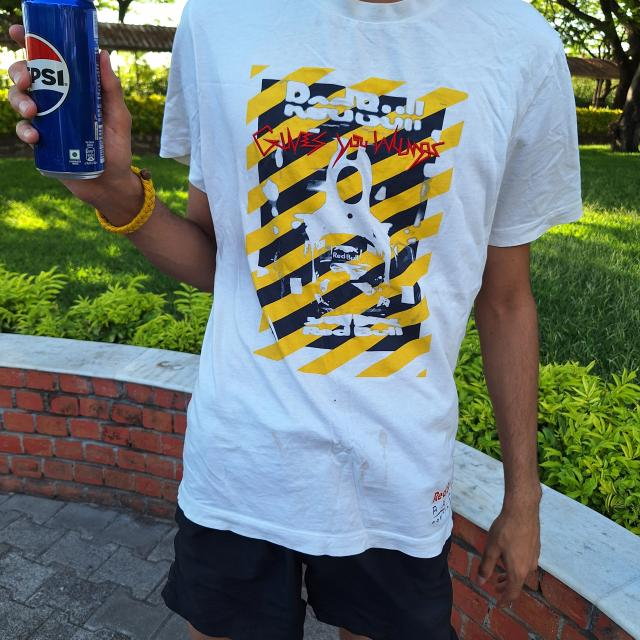Pepsi: (19, 0, 111, 179)
